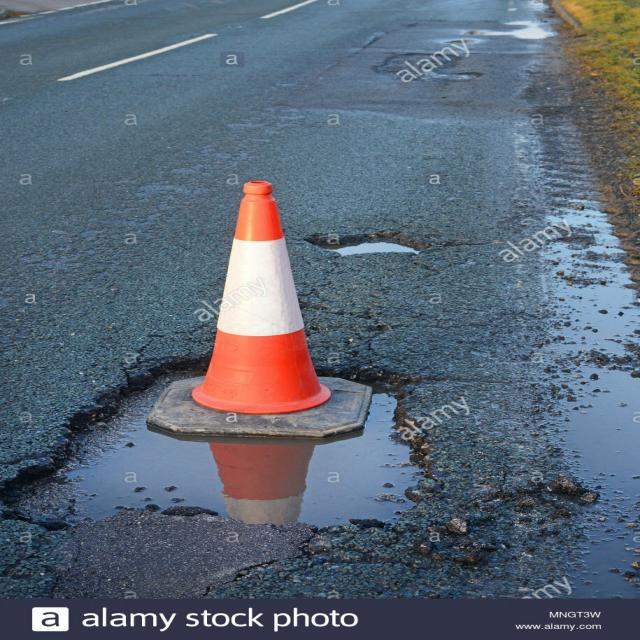Pothole: (1, 188, 580, 590)
